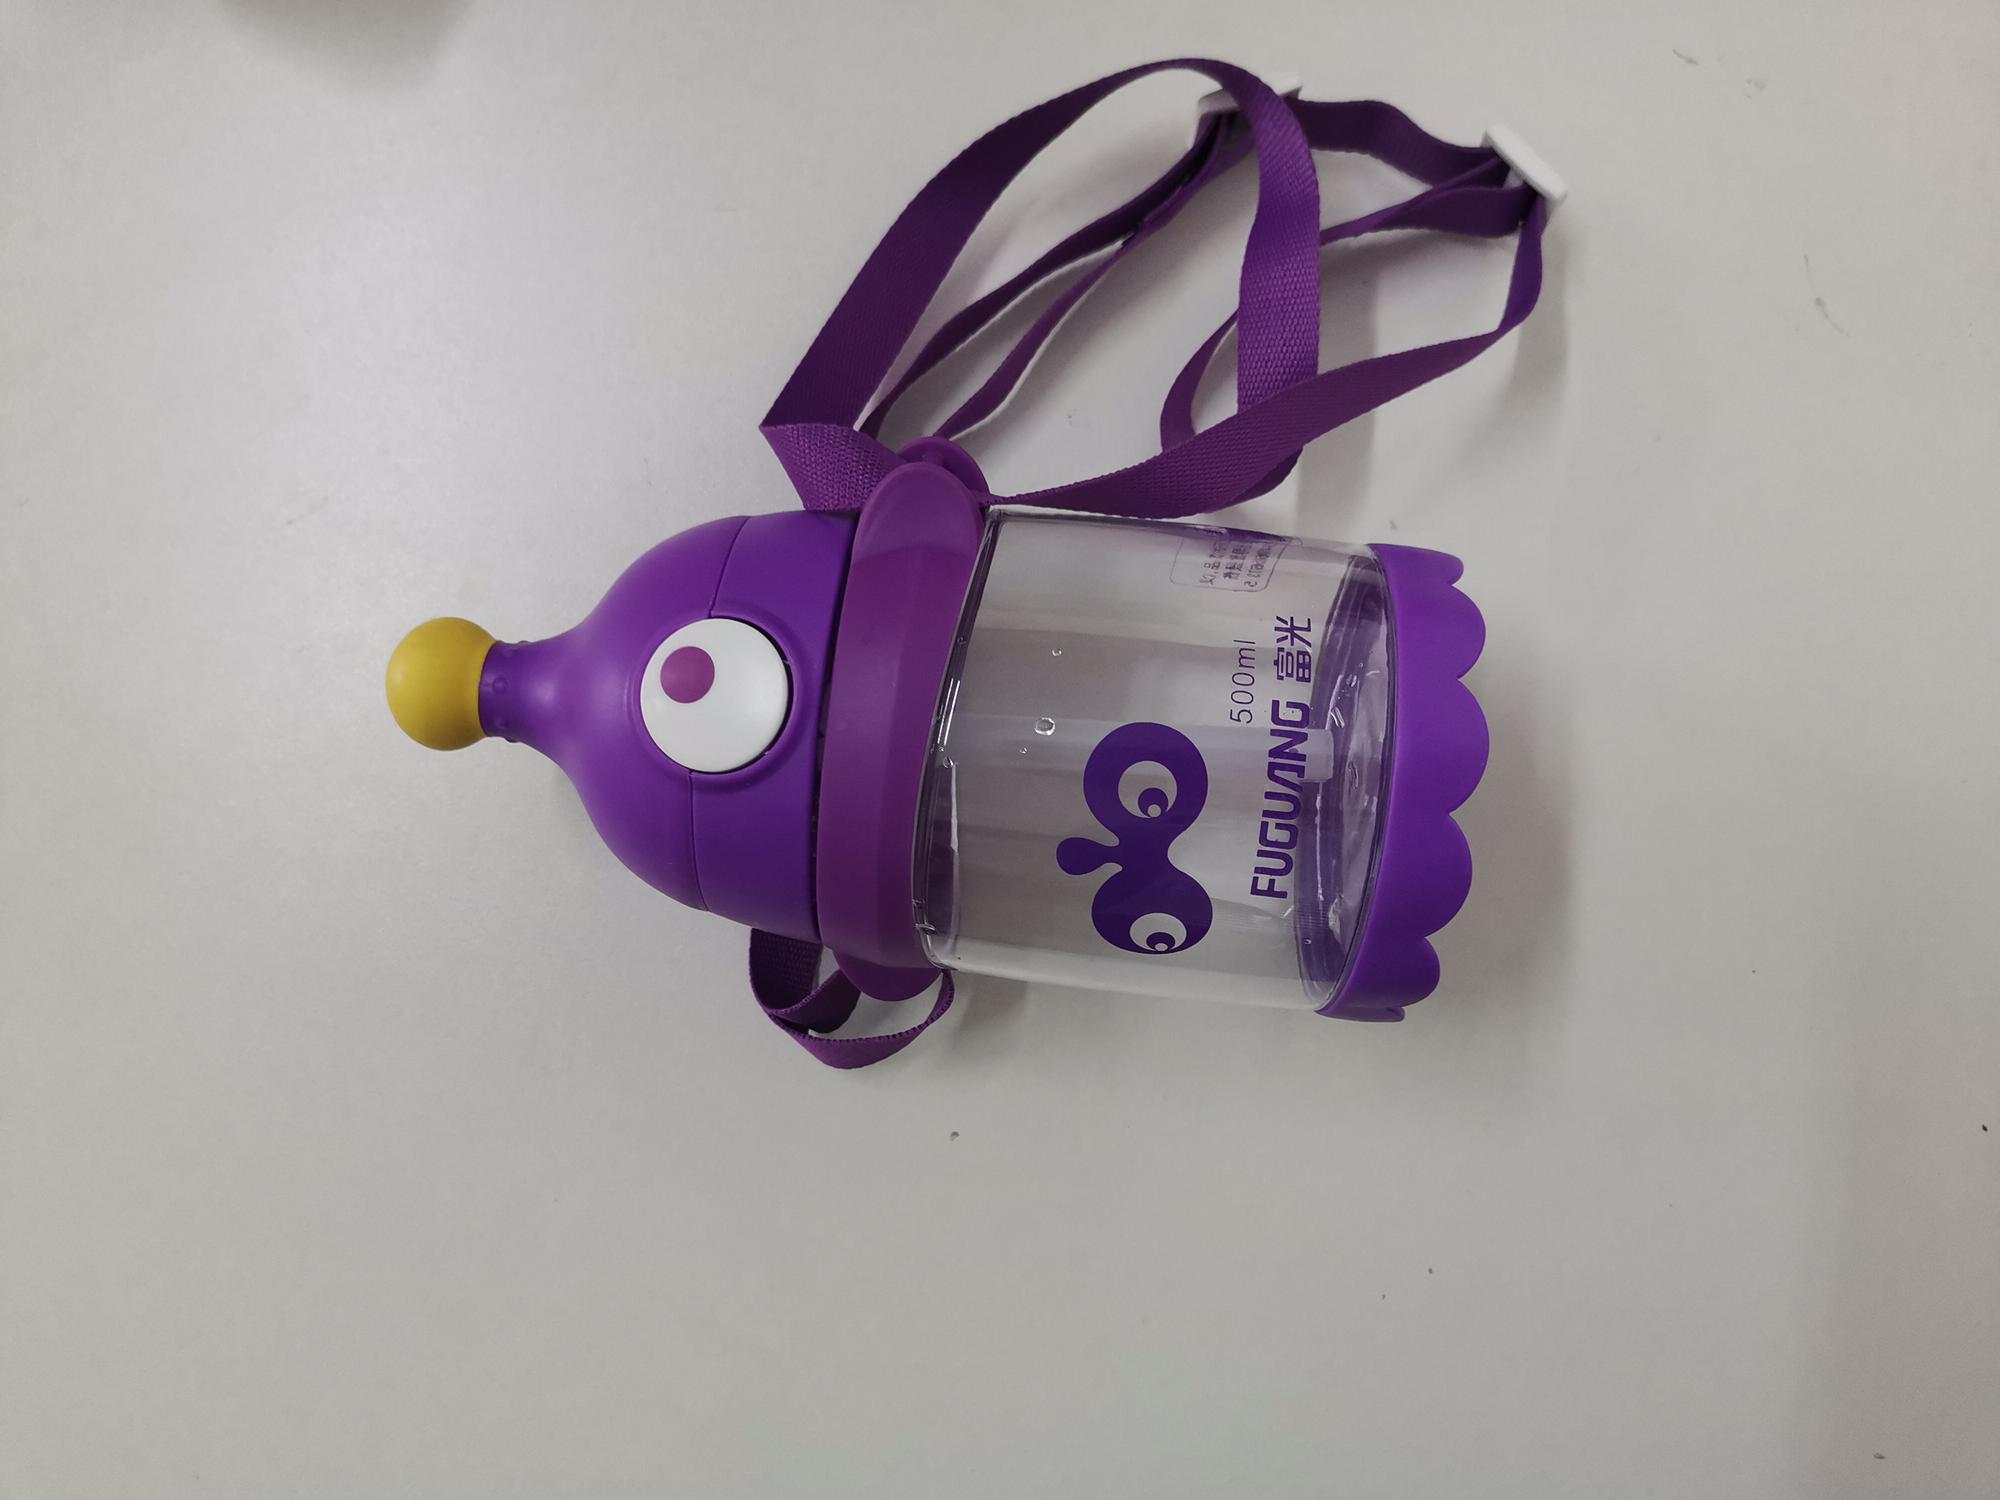cup: (387, 353, 1491, 1049)
